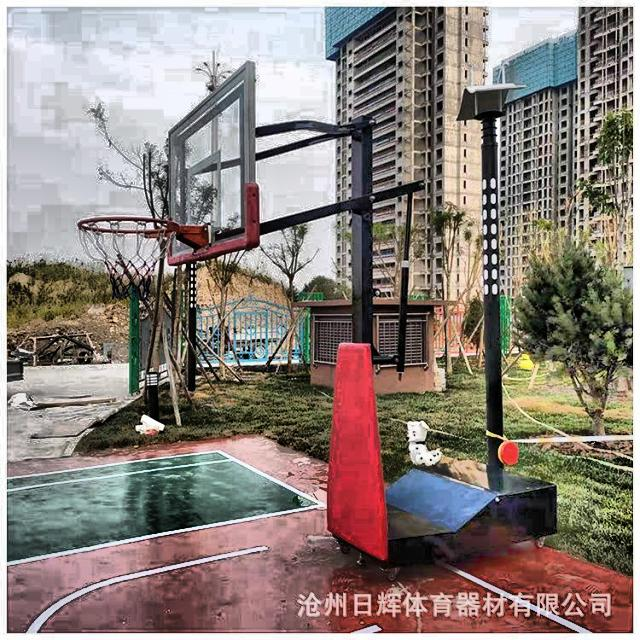rim: (78, 215, 178, 300)
